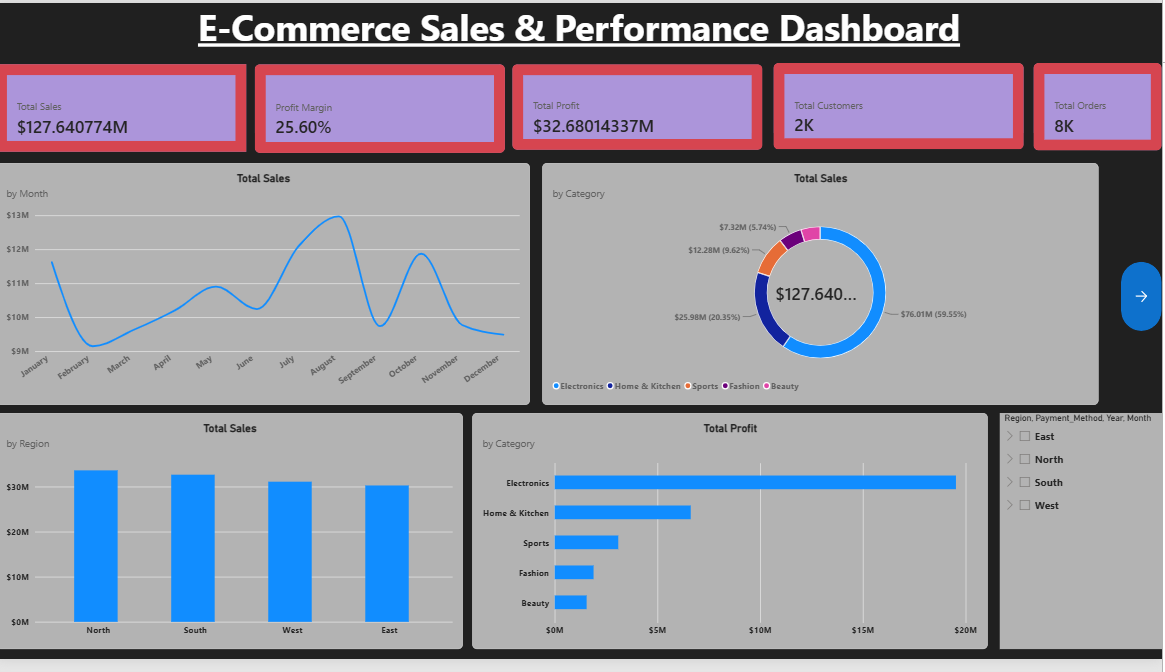

The page's visual inventory and layout, read from the dashboard file:
{"tool":"powerbi","page":{"name":"Executive Dashboard","canvas":[1920,1080],"ordinal":0},"visuals":[{"type":"textbox","box":[0,0,1920.1,79.6],"z":0},{"type":"cardVisual","fields":{"Data":["Customers.Total Profit"]},"box":[850.5,101.3,412.6,141.2],"z":1000},{"type":"cardVisual","fields":{"Data":["Customers.Total Sales"]},"box":[0,101.3,412.6,144.8],"z":2000},{"type":"cardVisual","fields":{"Data":["Customers.Profit Margin"]},"box":[425.3,101.3,412.6,146.6],"z":3000},{"type":"cardVisual","fields":{"Data":["Customers.Total Orders"]},"box":[1708.3,99.5,211.7,144.8],"z":4000},{"type":"cardVisual","fields":{"Data":["Customers.Total Customers"]},"box":[1279.4,99.5,412.6,143],"z":5000},{"type":"lineChart","fields":{"Category":["Date_Table.Year_Month.Variation.Date Hierarchy.Month"],"Y":["Customers.Total Sales"]},"box":[0,264.2,879.5,398.1],"z":6000},{"type":"donutChart","fields":{"Category":["Products.Category"],"Y":["Customers.Total Sales"]},"box":[899.4,264.2,915.7,398.1],"z":7000},{"type":"columnChart","fields":{"Category":["Orders.Region"],"Y":["Customers.Total Sales"]},"box":[0,675,769.1,389.1],"z":8000},{"type":"barChart","fields":{"Category":["Products.Category"],"Y":["Customers.Total Profit"]},"box":[783.6,675,848.7,389.1],"z":9000},{"type":"slicer","fields":{"Values":["Orders.Region","Orders.Payment_Method","Date_Table.Year","Date_Table.Month"]},"box":[1652.2,675,267.8,389.1],"z":9001},{"type":"actionButton","box":[1853.1,425.3,67,114],"z":9002}]}

Visuals, with their boxes in screenshot pixels (x1, y1, x2, y2), scaled from the page's 1920x1080 canvas onto the 1165x672 screenshot:
textbox: [0, 0, 1164, 50]
cardVisual - Customers.Total Profit: [516, 63, 766, 151]
cardVisual - Customers.Total Sales: [0, 63, 250, 153]
cardVisual - Customers.Profit Margin: [258, 63, 508, 154]
cardVisual - Customers.Total Orders: [1037, 62, 1164, 152]
cardVisual - Customers.Total Customers: [776, 62, 1027, 151]
lineChart - Date_Table.Year_Month.Variation.Date Hierarchy.Month x Customers.Total Sales: [0, 164, 534, 412]
donutChart - Products.Category x Customers.Total Sales: [546, 164, 1101, 412]
columnChart - Orders.Region x Customers.Total Sales: [0, 420, 467, 662]
barChart - Products.Category x Customers.Total Profit: [475, 420, 990, 662]
slicer - Orders.Region x Orders.Payment_Method: [1003, 420, 1164, 662]
actionButton: [1124, 265, 1164, 336]
